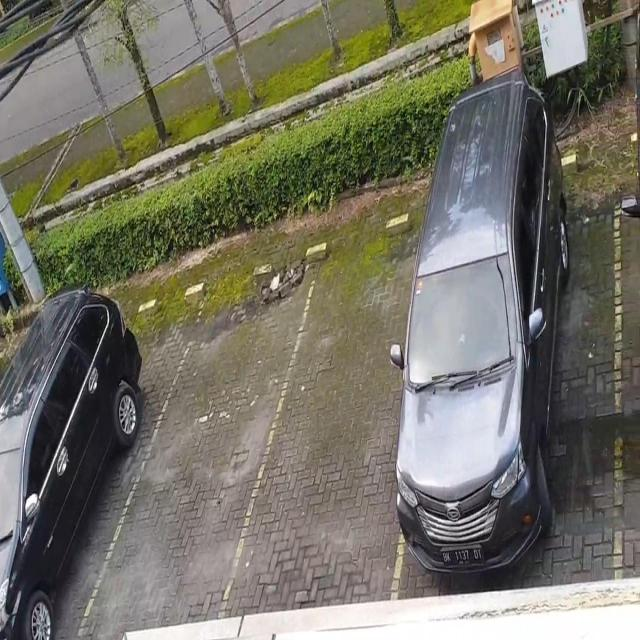empty: (270, 230, 401, 600), (144, 281, 268, 620)
occupied: (396, 158, 618, 590), (30, 288, 140, 633)
